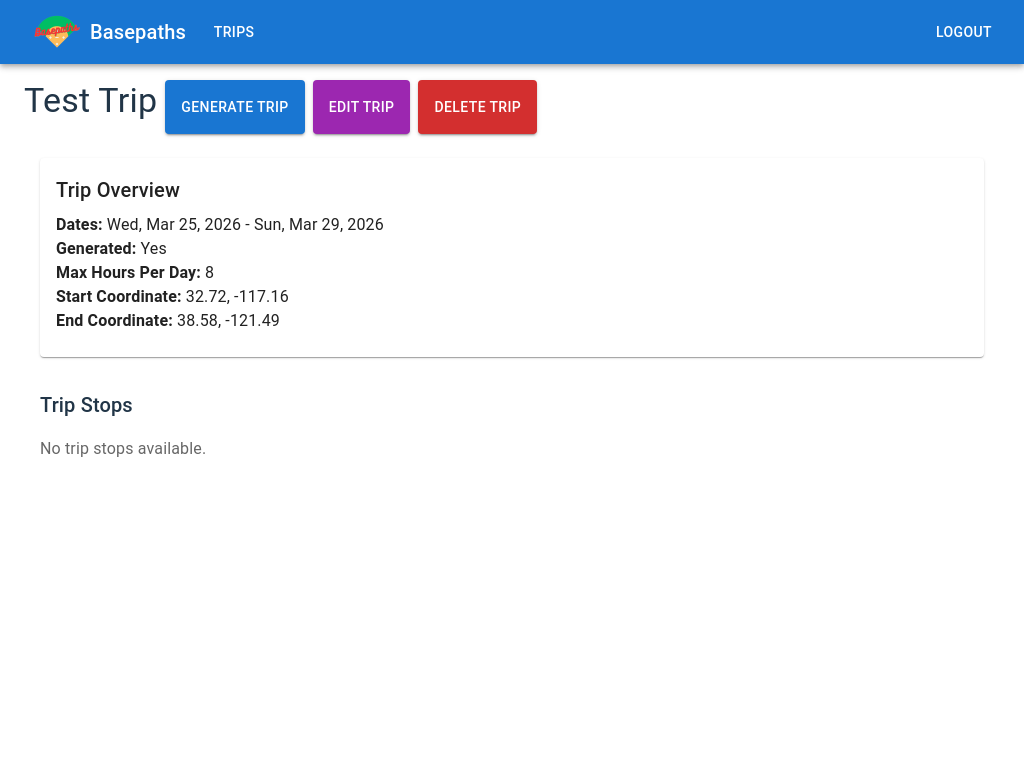
View Trip Frontend Unit Tests › FUT22 - Open Delete Dialog
expect the heading "Test Trip" is shown: met, box [24,80,157,122]
expect the heading "Trip Overview" is shown: met, box [56,178,180,202]
What coordinates should you click on to do the following:
click the button "Delete Trip"
I would click on:
 (478, 107)
Its box is [418,80,537,134].
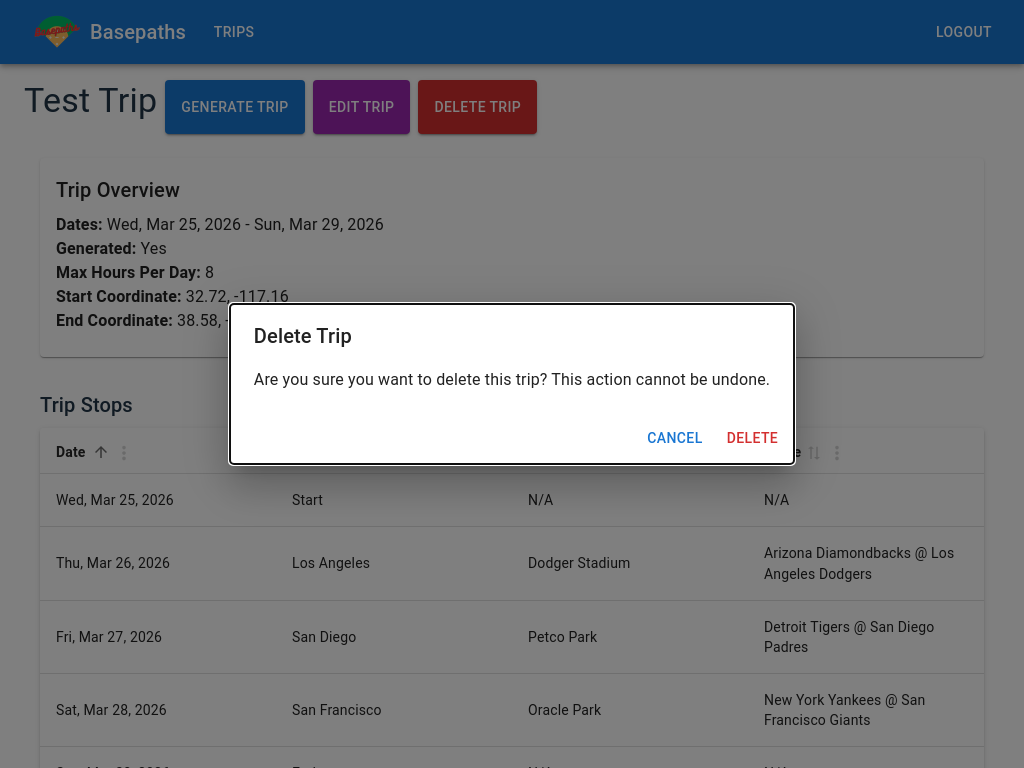
expect the dialog is shown: met, box [230,304,794,464]
